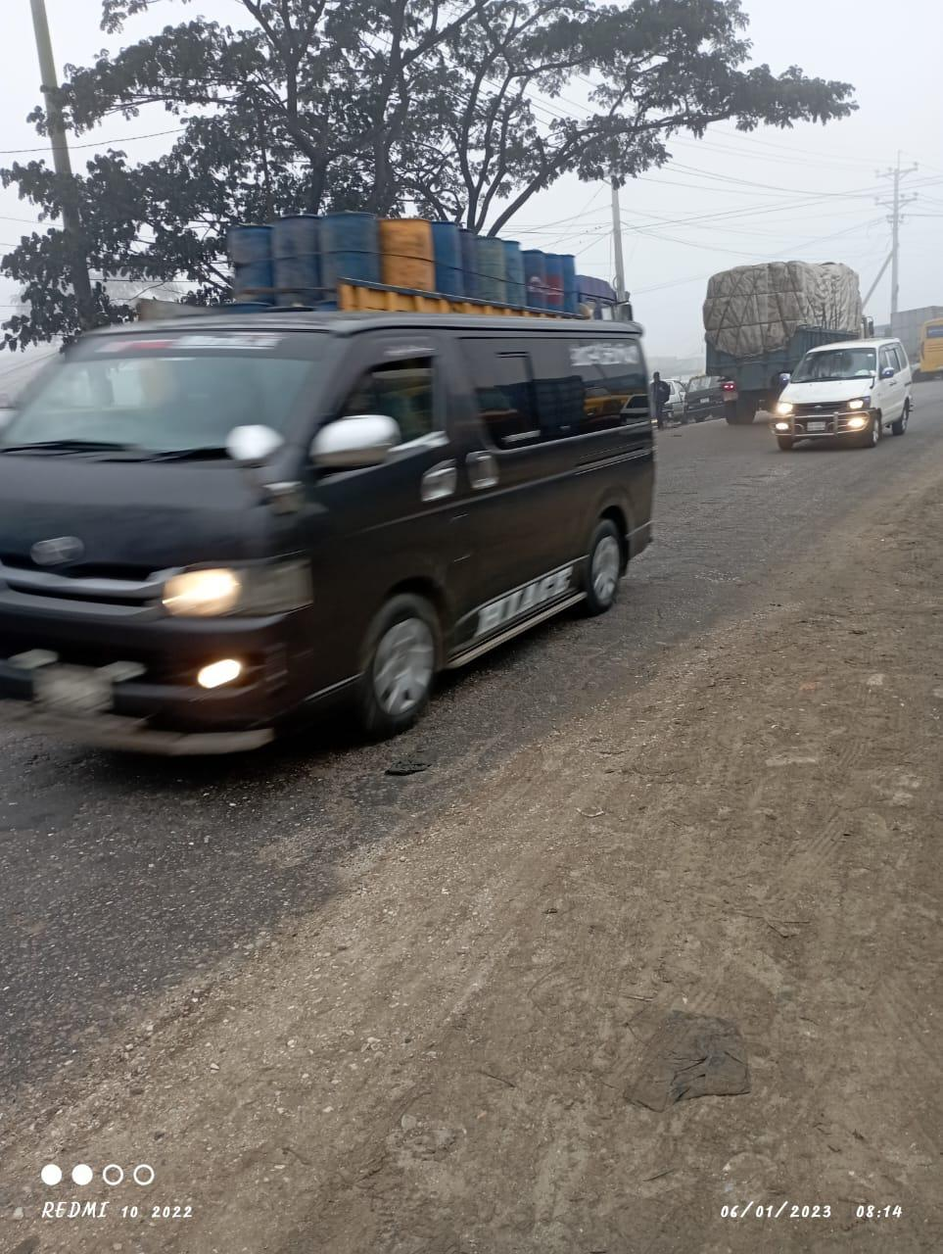Car: (16, 289, 666, 720), (762, 337, 915, 448)
Truck: (228, 199, 663, 348), (702, 254, 862, 412)
